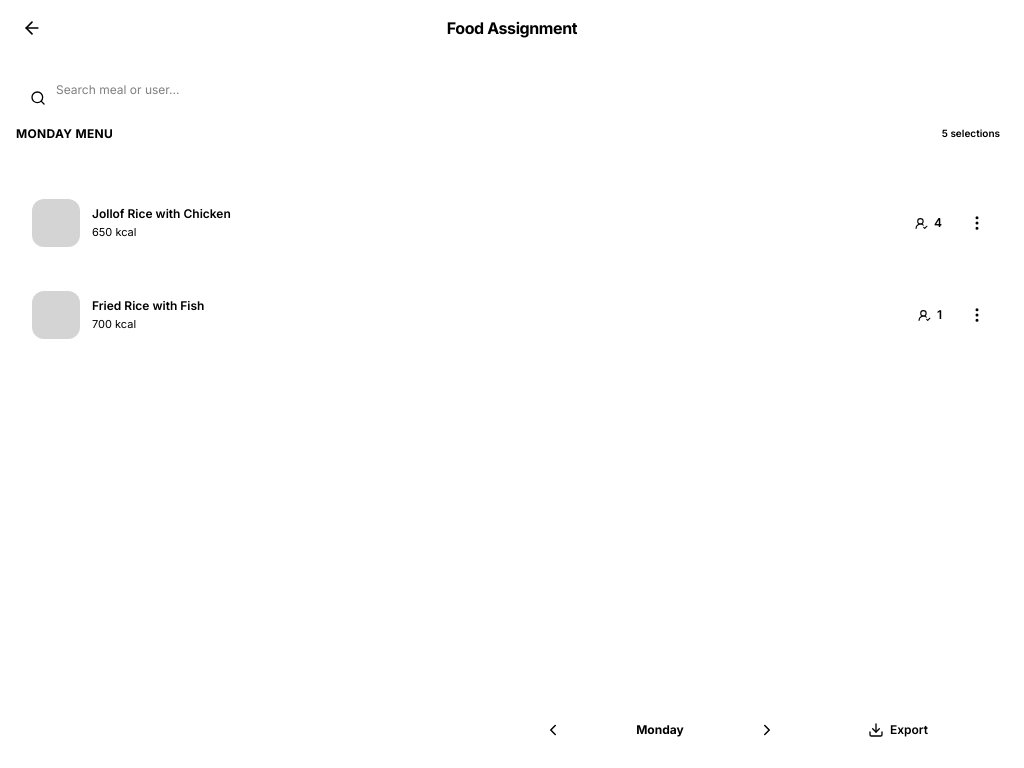
Scenario: SelectionActivity (Food Assignment) › displays empty state when search finds no results and can be cleared
Type "NonExistentDishOrUser" into the field with placeholder "Search meal or user..." at coordinates (512, 90), box [16,72,1008,108]
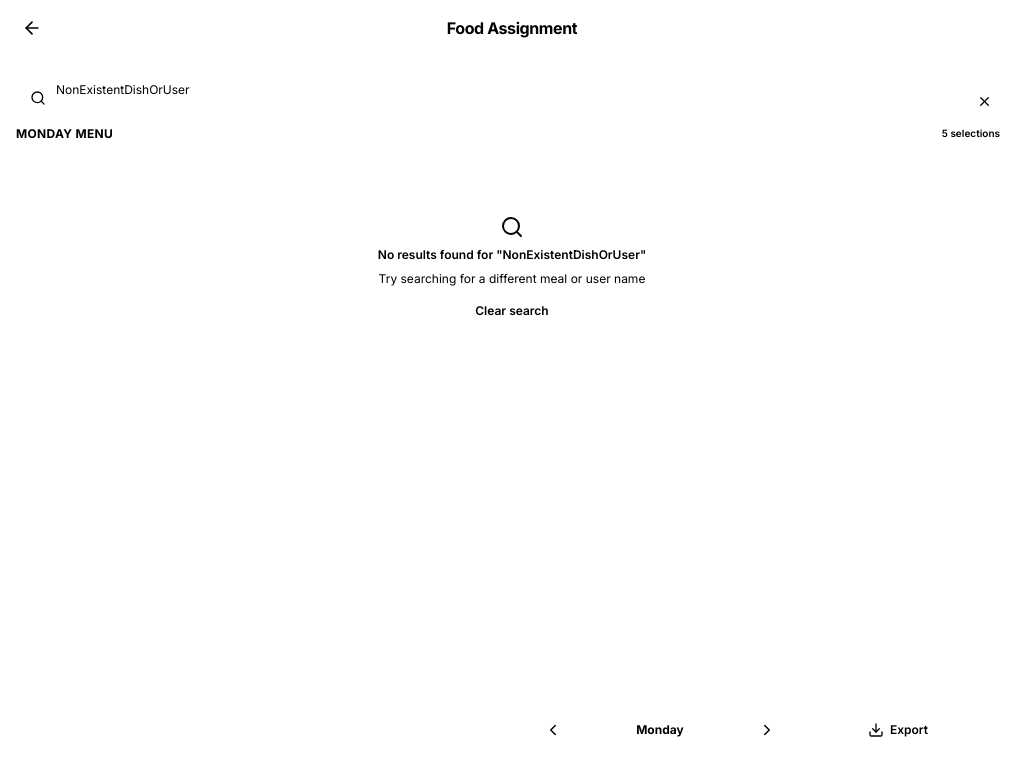
Check: the text "No results found for \"NonExistentDishOrUser\"" is shown, box [378,247,646,263]
Check: the button named "clear search" is shown
Click the button named "clear search" at coordinates (984, 102), box [973,90,996,113]
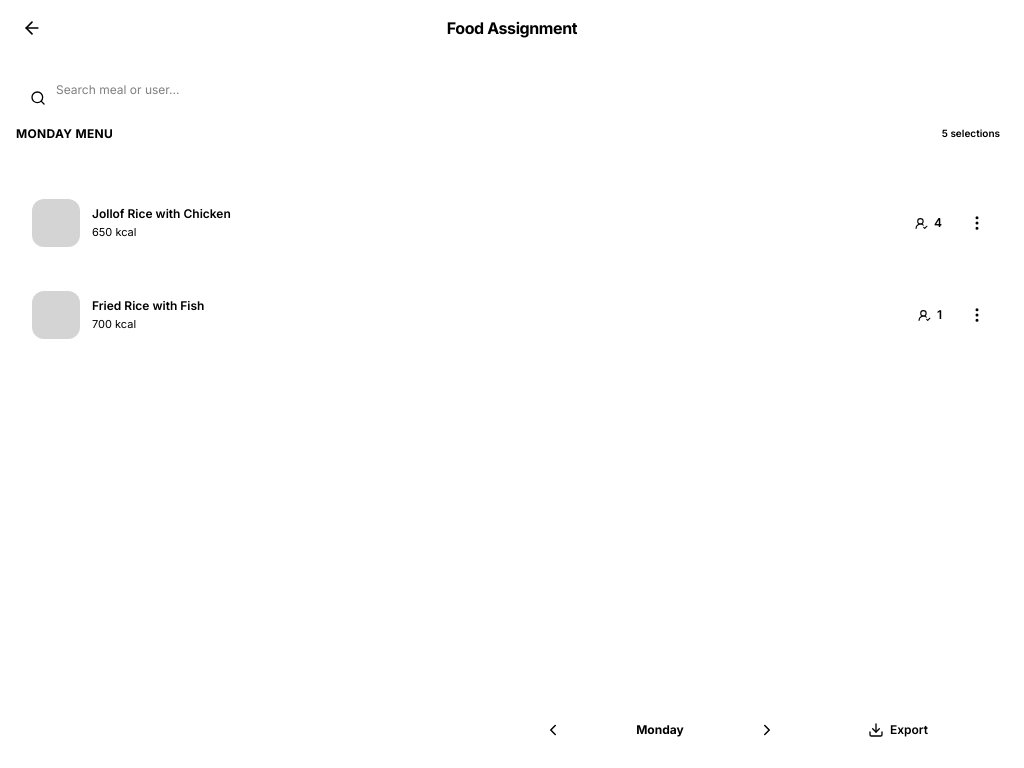
Check: the heading "Jollof Rice with Chicken" is shown, box [92,206,231,220]
Check: the heading "Fried Rice with Fish" is shown, box [92,298,204,312]
